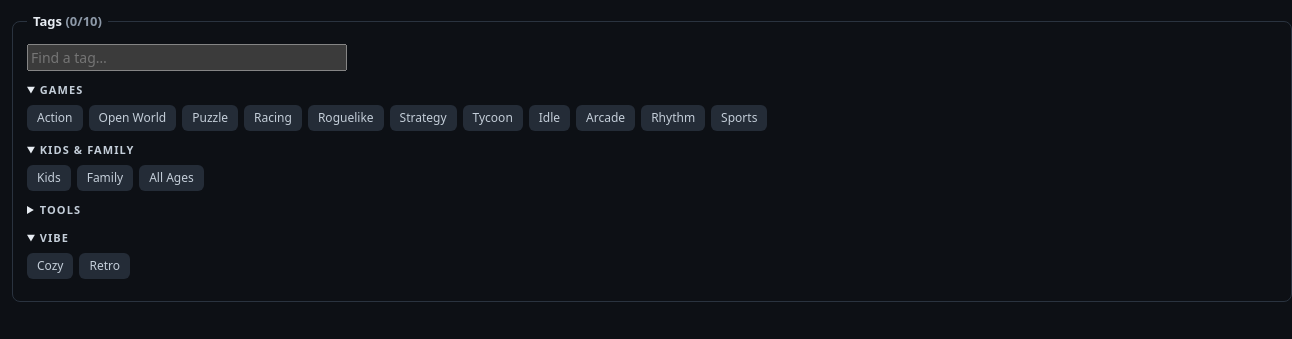
TagPicker › picks and unpicks, counts, and names what's picked in each group's summary
The image size is (1292, 339).
Step 1. Click the button "Puzzle" → (210, 118), box [182,104,238,130]
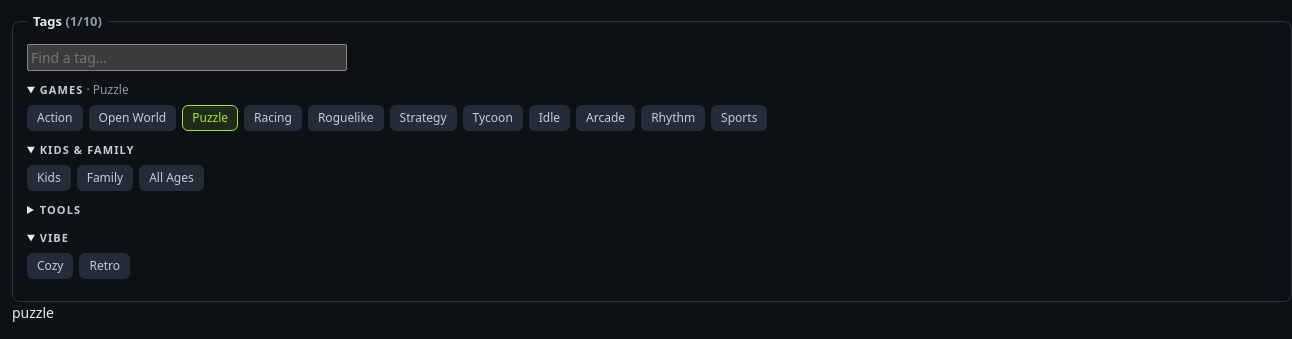
Step 2. Click the button "Cozy" → (50, 266), box [27,252,74,278]
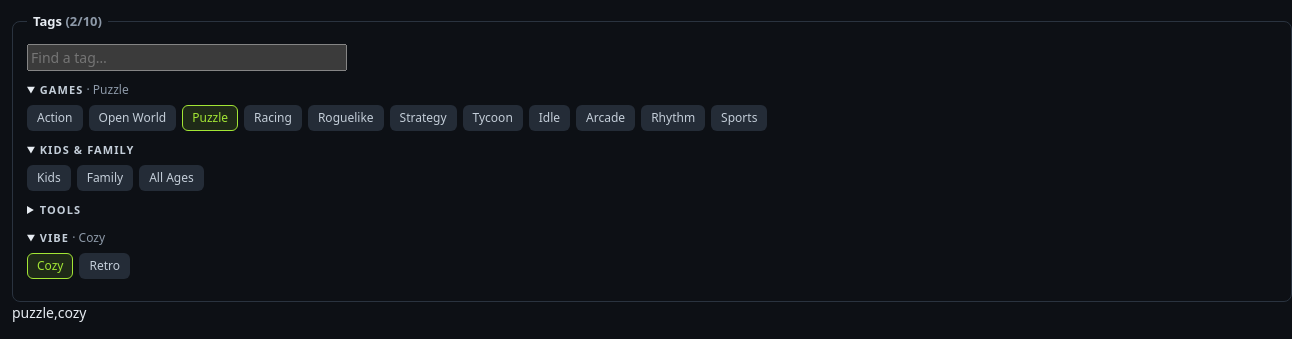
Check: the text with test id "tags" reads "puzzle,cozy", box [12,302,86,322]
Check: the text "(2/10)" is shown, box [65,12,102,30]
Check: the text "· Cozy" is shown, box [69,228,105,246]
Step 3. Click the button "Puzzle" → (210, 118), box [182,104,238,130]
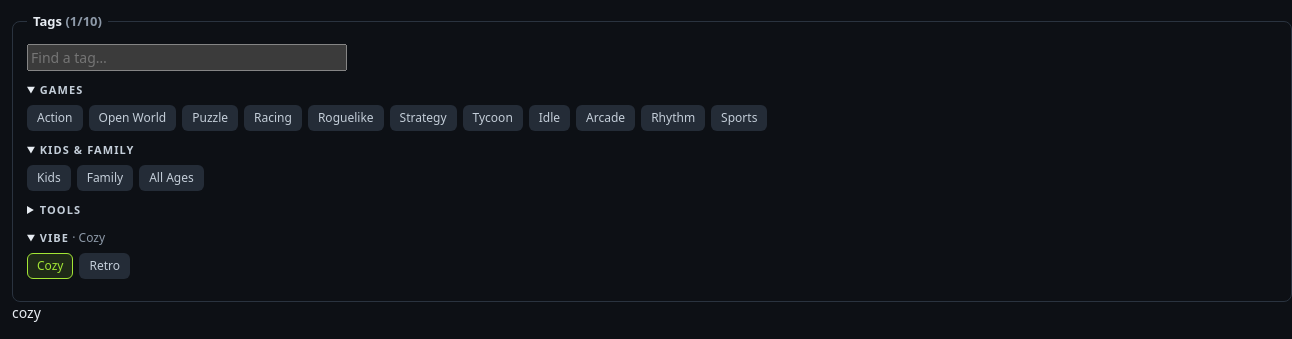
Check: the text with test id "tags" reads "cozy", box [12,302,41,322]
